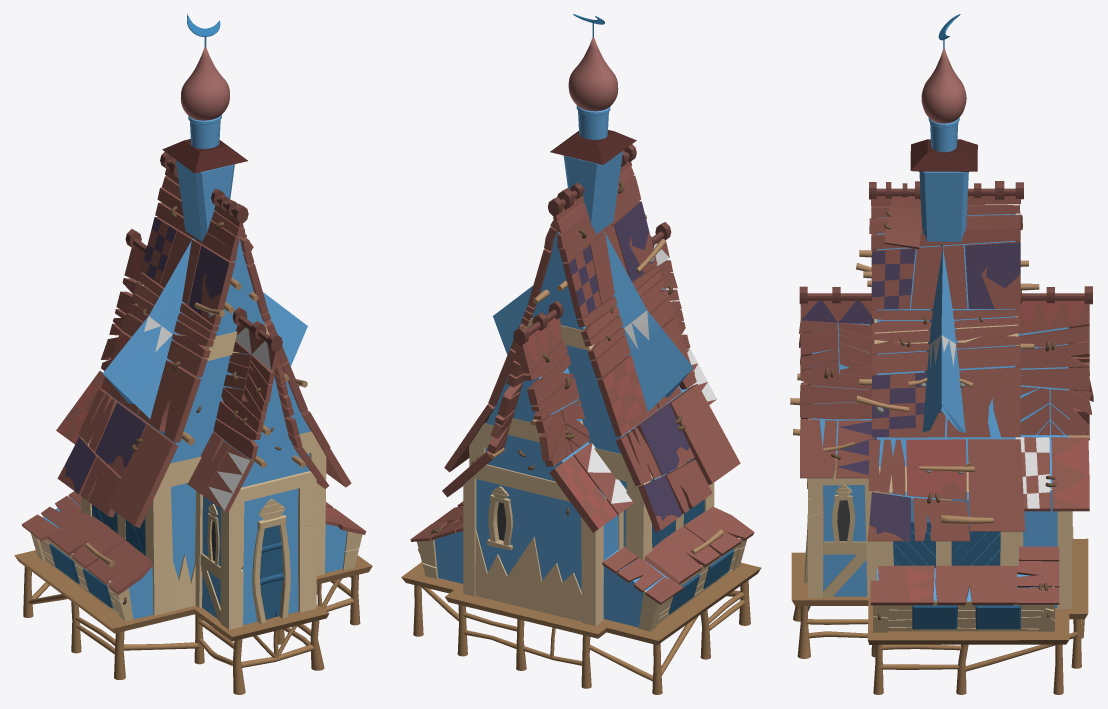
The model's file is house.glb.
3 renders of one model, left to right at view 1: azimuth 30°, elevation 25°; view 2: azimuth 150°, elevation 25°; view 3: azimuth 270°, elevation 25°, orthographic.
Parts seen in each view (by area): view 1: pasted__pPrism26, pasted__pPrism23, pasted__pCube17, pasted__pPrism1, pasted__pPrism2, pasted__pPrism18, pasted__pPrism31, pasted__pPrism17, pasted__pCube74, pasted__pPrism30, pasted__pCube13, pasted__pCone2 (+13 smaller); view 2: pasted__pPrism26, pasted__pPrism30, pasted__pPrism13, pasted__pPrism19, pasted__pPrism17, pasted__pPrism31, pasted__pPrism20, pasted__pPrism2, pasted__pCube74, pasted__pPrism18, pasted__pCube13, pasted__pCone2 (+12 smaller); view 3: pasted__pPrism26, pasted__pPrism30, pasted__pPrism23, pasted__pPrism17, pasted__pCube6, pasted__pPrism11, pasted__pPrism1, pasted__pCube13, pasted__pCube17, pasted__pPrism2, pasted__pCube7, pasted__pCube73 (+14 smaller).
Part boxes in pixels (x1=…): pasted__pPrism26: x1=57, y1=168, x2=351, y2=527; pasted__pPrism23: x1=186, y1=324, x2=329, y2=512; pasted__pCube17: x1=195, y1=471, x2=316, y2=629; pasted__pPrism1: x1=202, y1=352, x2=309, y2=624; pasted__pPrism2: x1=107, y1=236, x2=310, y2=580; pasted__pPrism18: x1=81, y1=285, x2=326, y2=615; pasted__pPrism31: x1=103, y1=238, x2=195, y2=418; pasted__pPrism17: x1=14, y1=550, x2=372, y2=641; pasted__pCube74: x1=48, y1=512, x2=152, y2=594; pasted__pPrism30: x1=56, y1=246, x2=144, y2=444; pasted__pCube13: x1=176, y1=160, x2=234, y2=241; pasted__pCone2: x1=180, y1=47, x2=229, y2=120; pasted__pPrism26: x1=444, y1=160, x2=740, y2=532; pasted__pPrism30: x1=442, y1=317, x2=633, y2=532; pasted__pPrism13: x1=476, y1=367, x2=618, y2=618; pasted__pPrism19: x1=463, y1=418, x2=623, y2=625; pasted__pPrism17: x1=401, y1=562, x2=761, y2=645; pasted__pPrism31: x1=602, y1=231, x2=693, y2=411; pasted__pPrism20: x1=475, y1=530, x2=581, y2=621; pasted__pPrism2: x1=485, y1=231, x2=690, y2=546; pasted__pCube74: x1=644, y1=506, x2=754, y2=584; pasted__pPrism18: x1=469, y1=318, x2=714, y2=560; pasted__pCube13: x1=563, y1=151, x2=622, y2=234; pasted__pCone2: x1=568, y1=37, x2=618, y2=111; pasted__pPrism26: x1=867, y1=196, x2=1025, y2=541; pasted__pPrism30: x1=1015, y1=300, x2=1093, y2=511; pasted__pPrism23: x1=799, y1=301, x2=876, y2=478; pasted__pPrism17: x1=791, y1=538, x2=1088, y2=644; pasted__pCube6: x1=870, y1=565, x2=1017, y2=605; pasted__pPrism11: x1=922, y1=245, x2=965, y2=432; pasted__pPrism1: x1=811, y1=322, x2=871, y2=596; pasted__pCube13: x1=919, y1=171, x2=968, y2=242; pasted__pCube17: x1=808, y1=418, x2=874, y2=597; pasted__pPrism2: x1=877, y1=214, x2=1015, y2=565; pasted__pCube7: x1=1017, y1=546, x2=1059, y2=604; pasted__pCube73: x1=912, y1=605, x2=1020, y2=629.
Bounding box in the file's own units: 10.43 × 23.53 × 10.45.
